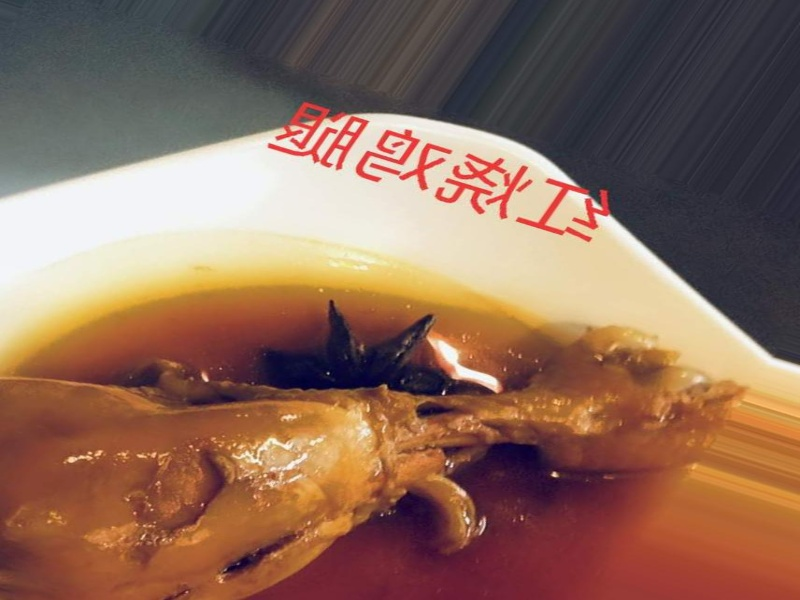chicken: (1, 261, 759, 600)
